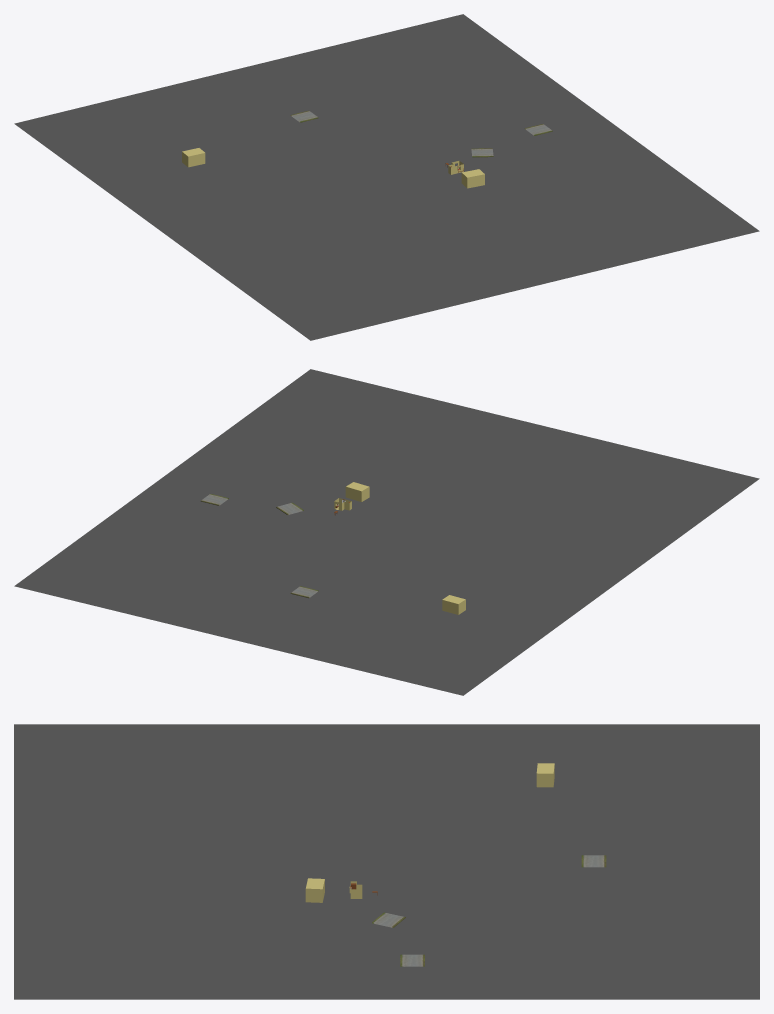
File: map.glb
3 views of the same model, one above another, from view 1: azimuth 30°, elevation 25°; view 2: azimuth 150°, elevation 25°; view 3: azimuth 270°, elevation 25° (orthographic). The views are drawn at different scales.
Parts seen in each view (by area): view 1: ground; view 2: ground; view 3: ground.
Boxes of the visible parts, x1,y1,x2,y2 form: ground: [14, 14, 759, 340]; ground: [14, 369, 759, 695]; ground: [14, 724, 759, 999].
Size of the model in its own units: 354 by 9.24 by 405.
Materials: 5 (3 with a texture image).
